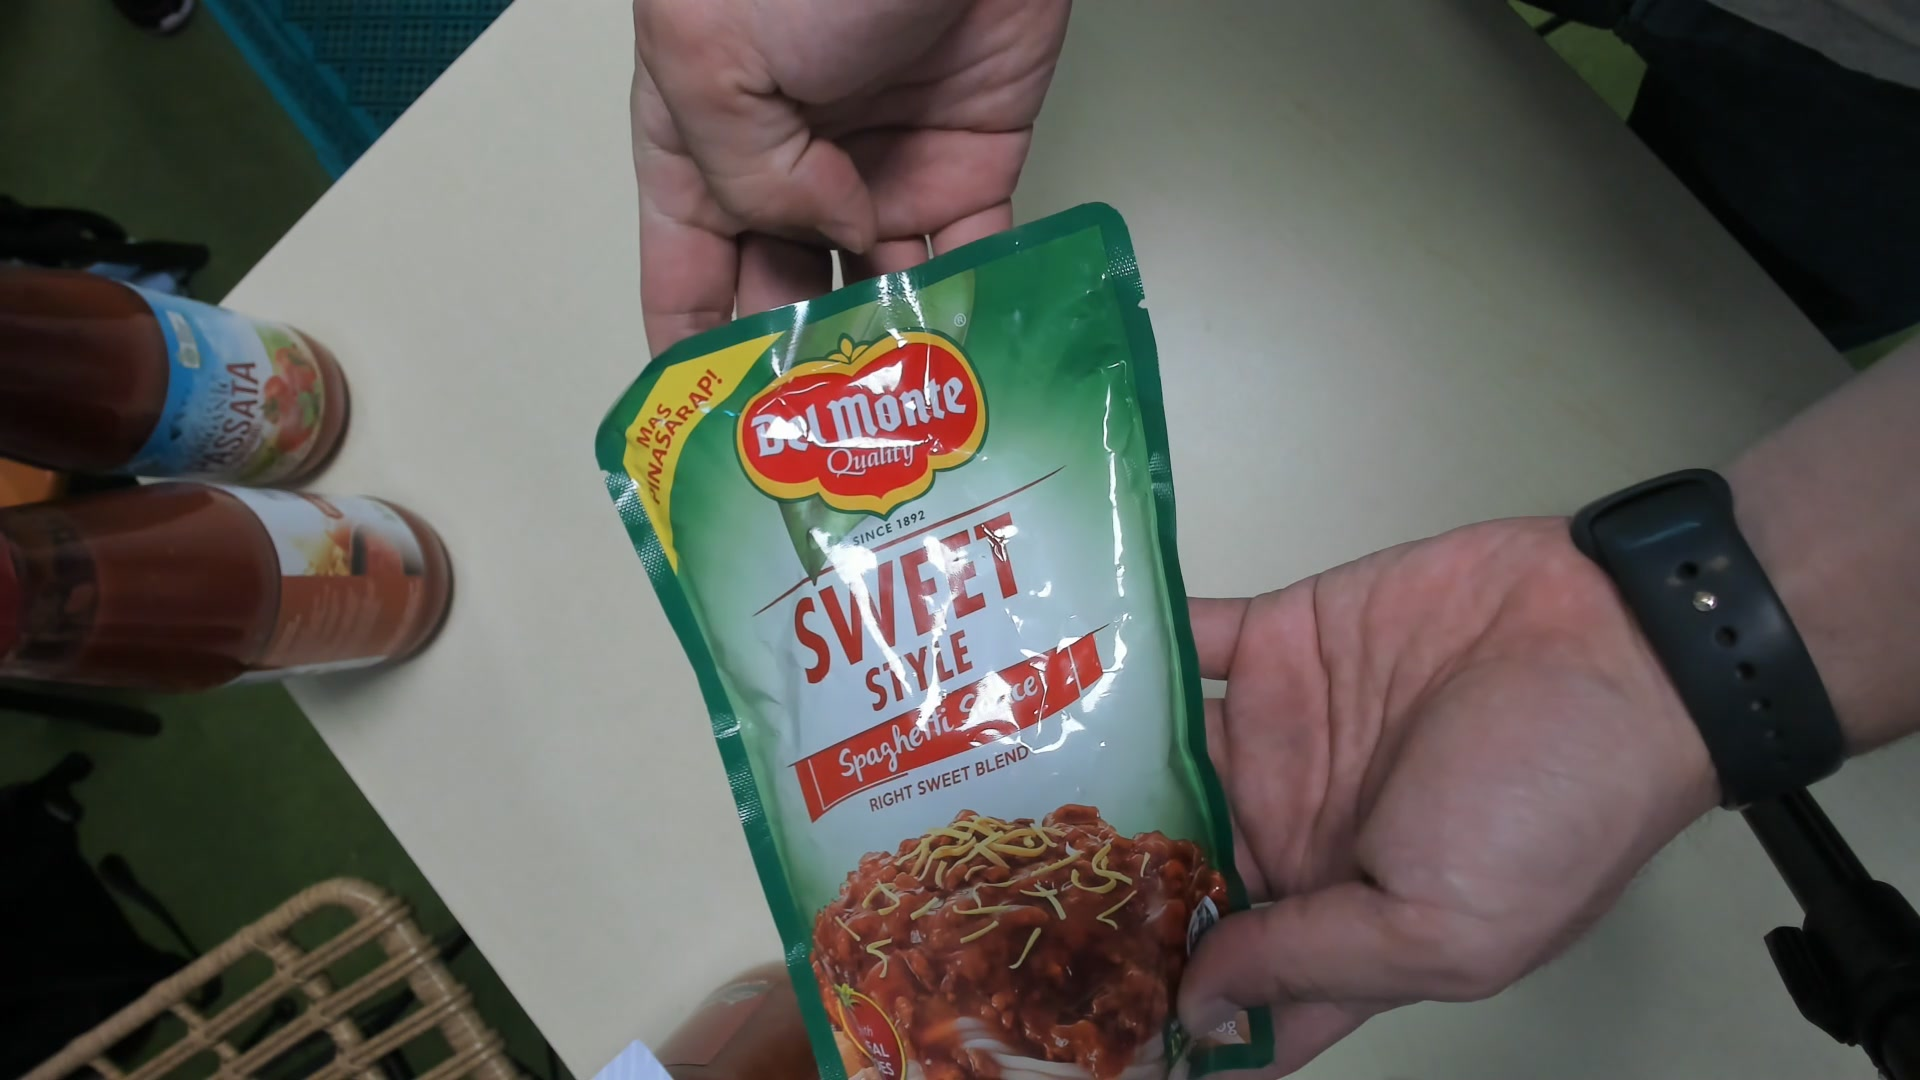PastaSauce_500-599g_Halal_NonHealthy: (603, 231, 1292, 1080)
